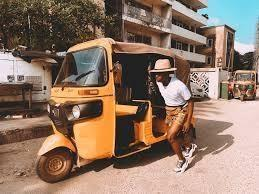keke: (32, 37, 194, 183), (233, 70, 257, 102)
